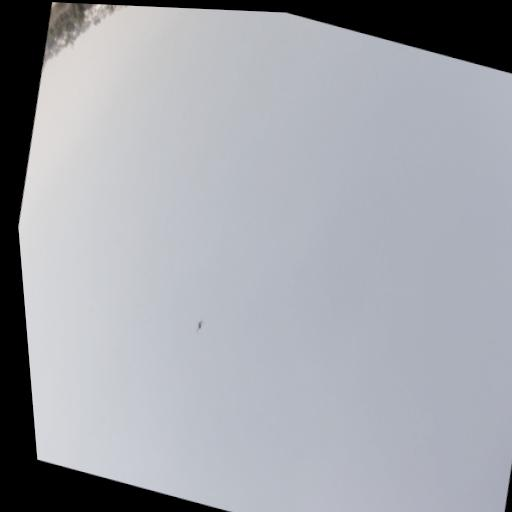drones: (193, 314, 208, 337)
